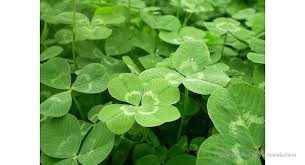4-clover: (104, 73, 181, 135)
